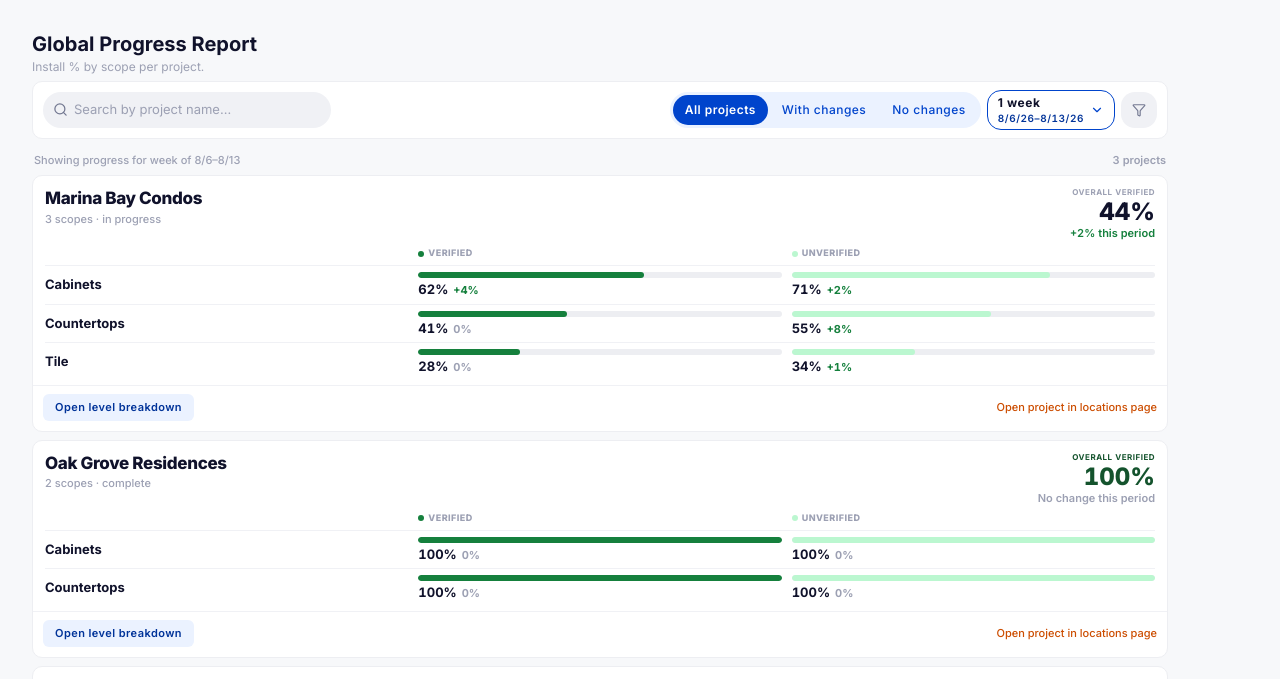
Test case: PortfolioProgressWireframe › excludes 100% complete projects when All time and With changes filters apply
Expected: the heading "Marina Bay Condos" is shown, [45,188,202,208]
Click the button "1 week 8/6/26–8/13/26" at (1051,110), box [987,90,1115,130]
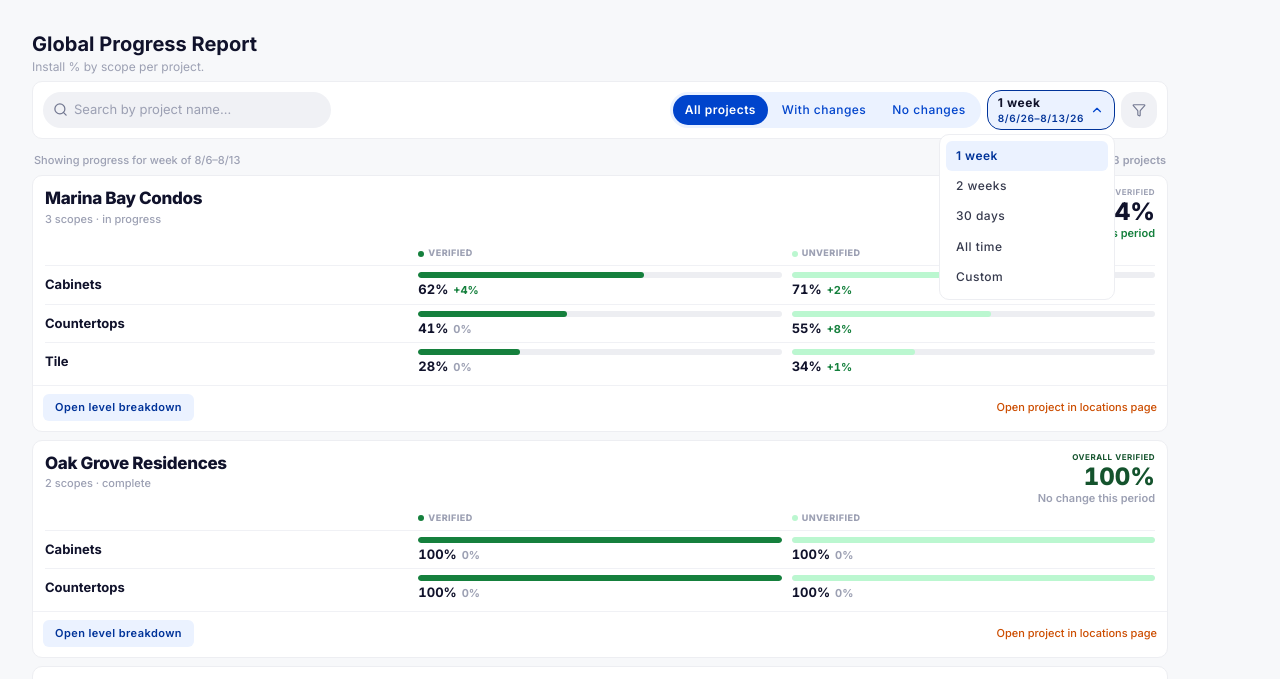
Click the menu item "All time" at (1027,247), box [946,232,1108,262]
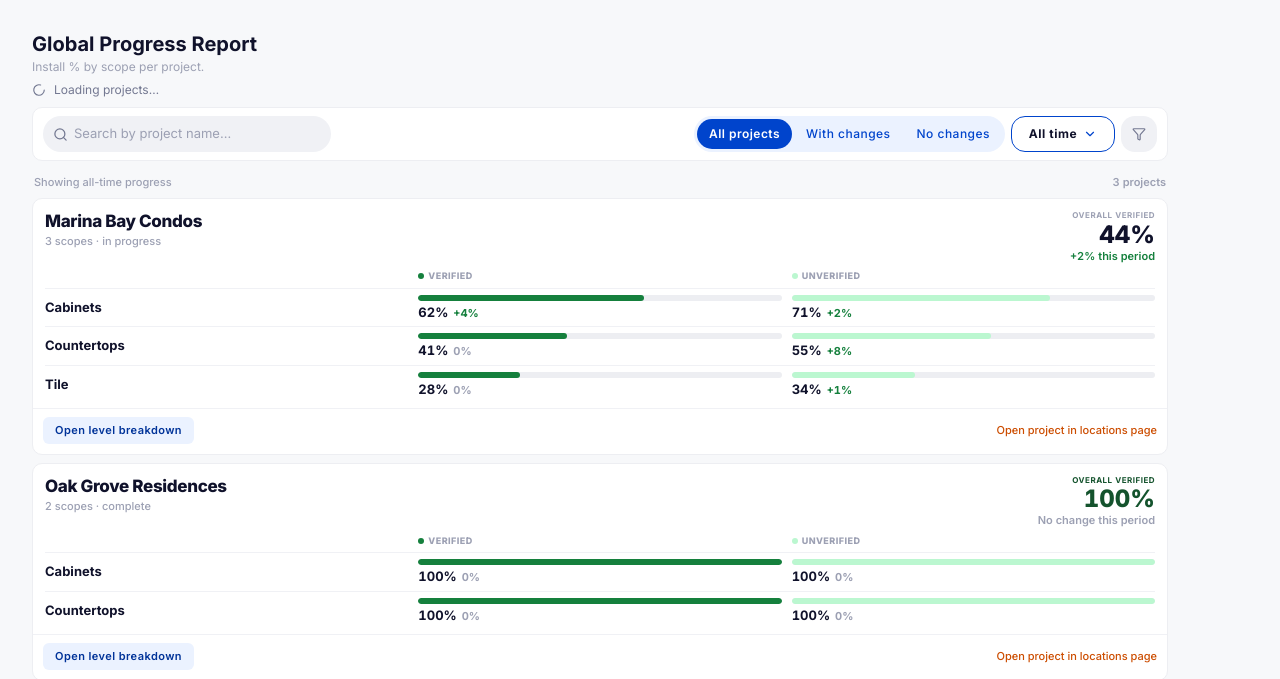
Click the tab "With changes" at (848,134), box [794,119,903,149]
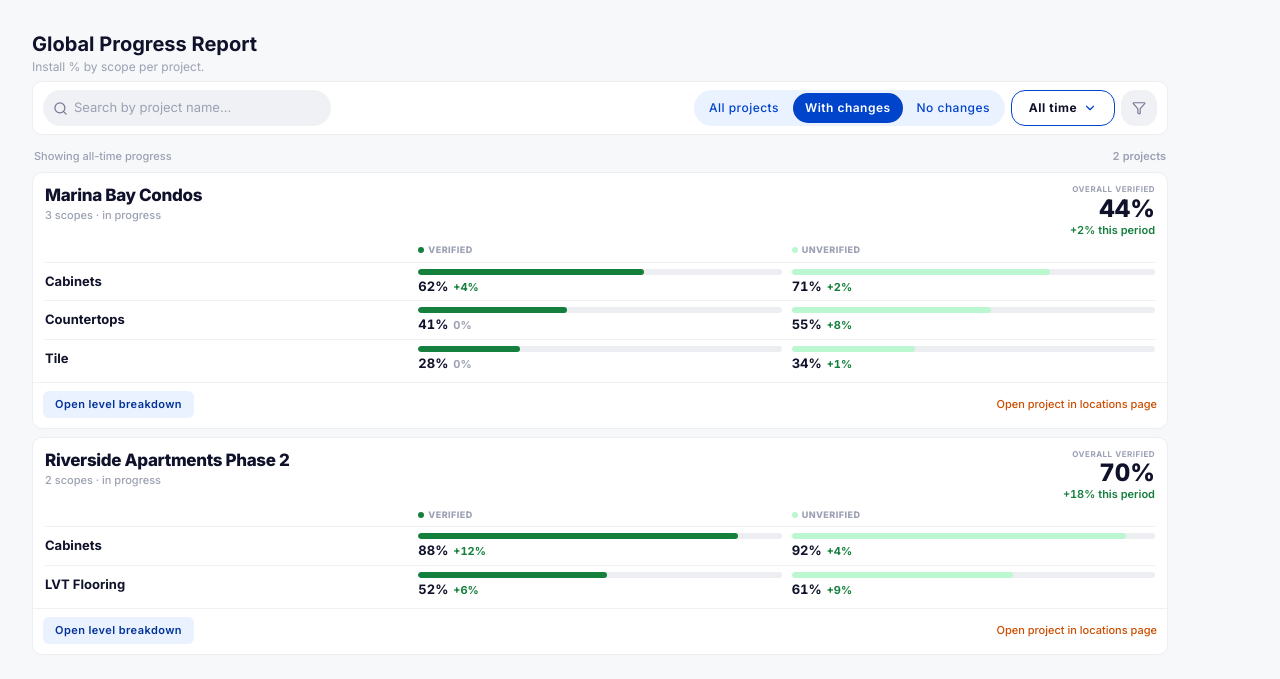
Expected: the heading "Marina Bay Condos" is shown, [45,185,202,205]
Expected: the heading "Oak Grove Residences" is gone
